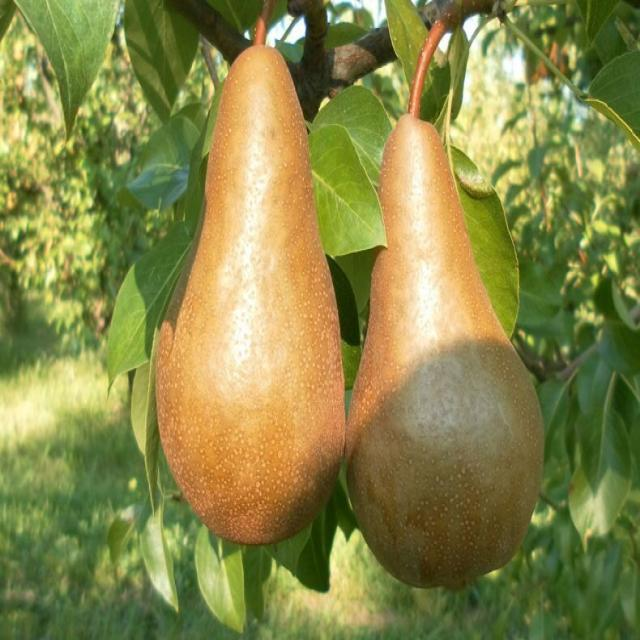pear: (150, 33, 548, 591), (153, 40, 347, 547), (344, 110, 546, 592)
